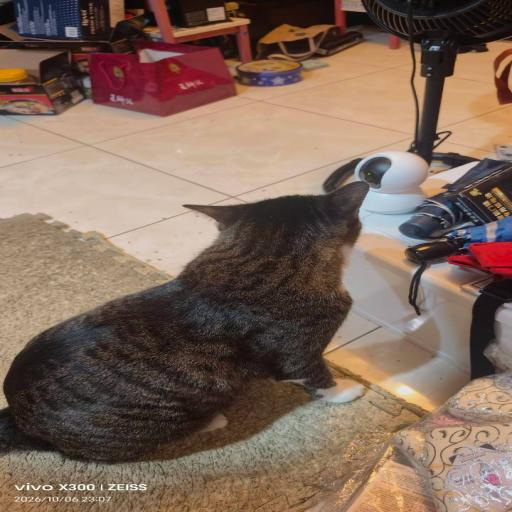cat: (1, 187, 370, 458)
